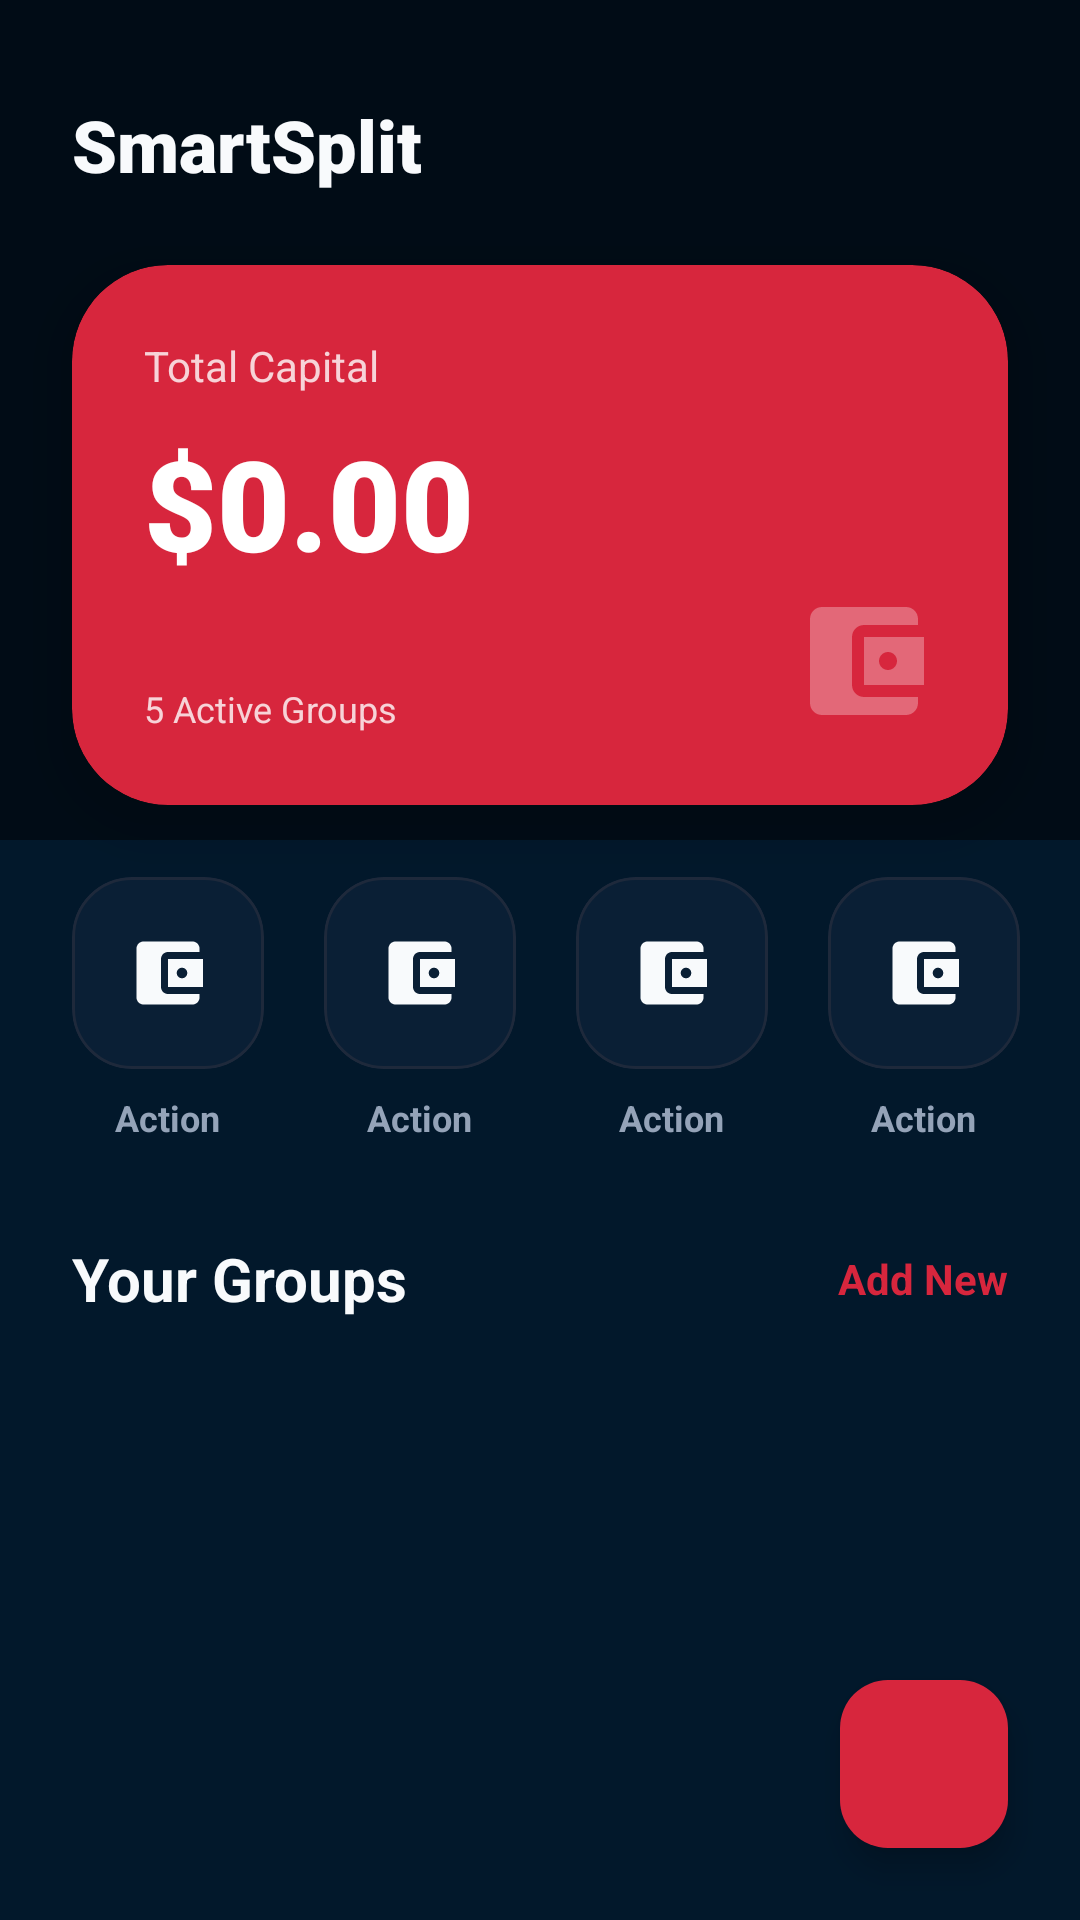

Point at icon controls on the screen. Image size 1080px×1920px, points as point (x, y).
wallet: point (867, 661), point (169, 973), point (421, 973), point (673, 973), point (925, 973)
